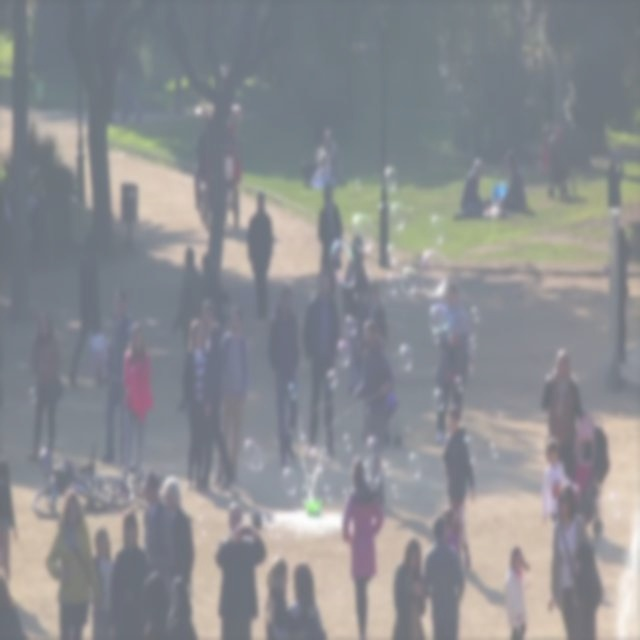pessoa: (42, 484, 104, 639), (300, 259, 344, 462), (340, 451, 386, 638), (195, 296, 238, 494), (210, 497, 268, 639), (66, 225, 114, 394), (548, 484, 598, 639), (430, 277, 473, 451), (264, 278, 302, 470), (213, 302, 250, 494), (26, 301, 68, 467), (99, 284, 135, 468), (539, 346, 587, 482), (117, 317, 156, 484), (106, 504, 154, 639), (441, 403, 478, 576), (344, 272, 392, 402), (566, 408, 611, 544), (0, 442, 31, 638), (422, 513, 468, 639), (178, 317, 210, 491), (352, 318, 396, 444), (170, 242, 202, 414), (138, 561, 205, 639), (340, 232, 371, 396), (387, 532, 432, 639), (243, 185, 275, 323), (159, 474, 196, 586), (26, 166, 52, 322), (538, 436, 580, 526), (541, 114, 577, 202), (302, 119, 341, 194), (90, 526, 116, 638), (317, 180, 344, 276), (503, 545, 530, 639), (288, 562, 324, 626), (264, 557, 290, 639), (616, 224, 630, 363), (198, 249, 226, 316), (604, 150, 624, 242), (362, 433, 386, 504), (460, 156, 486, 217), (502, 150, 526, 213), (434, 504, 461, 551), (141, 468, 161, 530), (482, 193, 510, 228)
